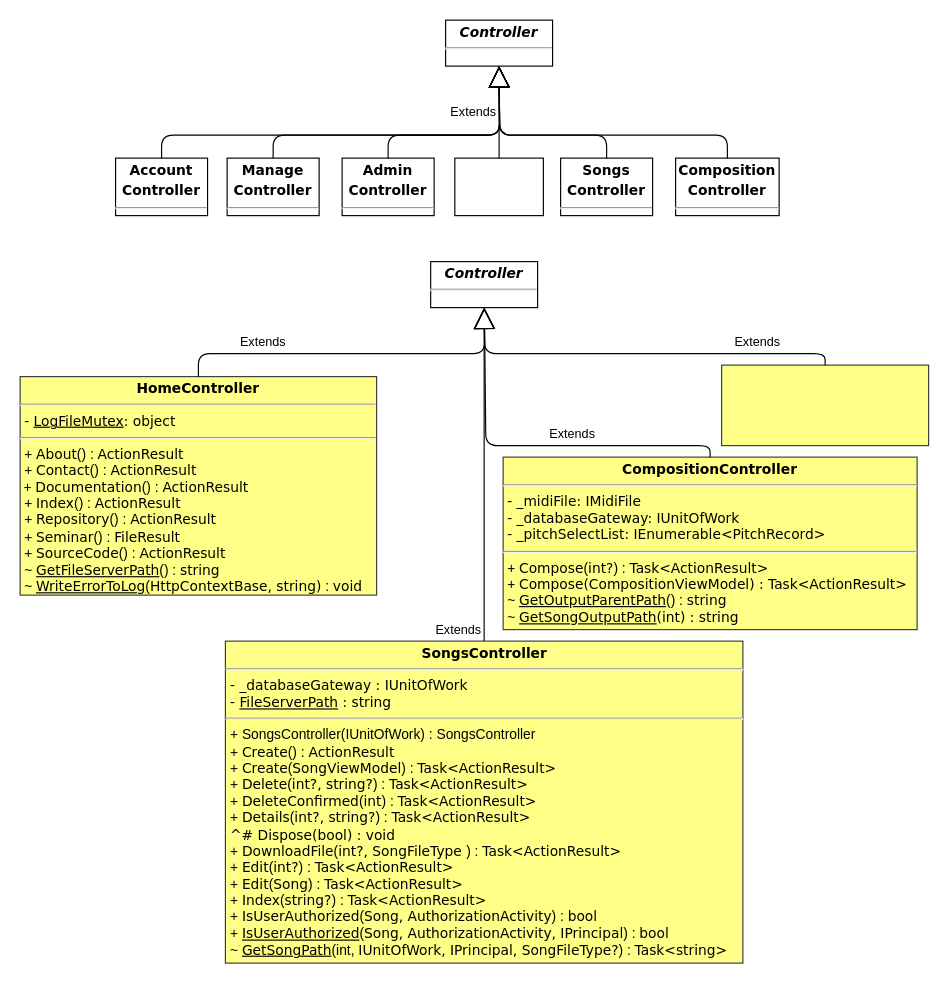
Image size: 949x983. Some labels were removed from this diagram. The box of each missing label's shape, as (x1, y1, x2, y2) in pixels:
AdminController + Index ( ) : ActionResult + FileServer ( ) : ActionResult: (720, 364, 929, 446)
Home Controller: (454, 157, 543, 216)
